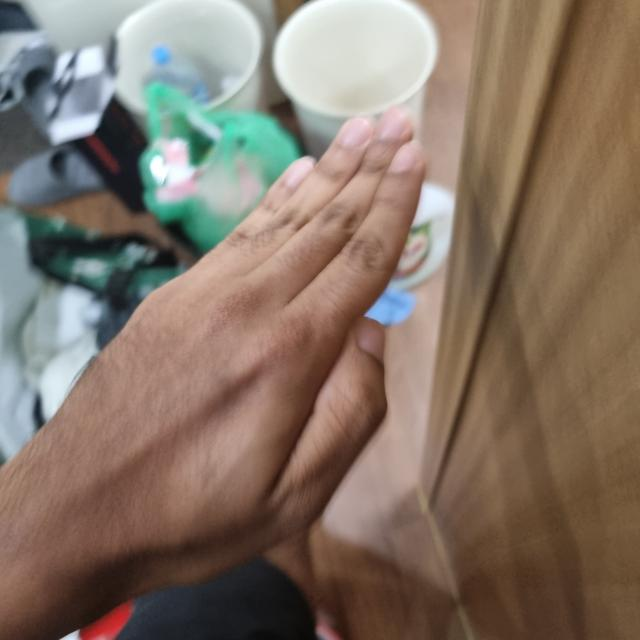Paper: (17, 108, 425, 598)
